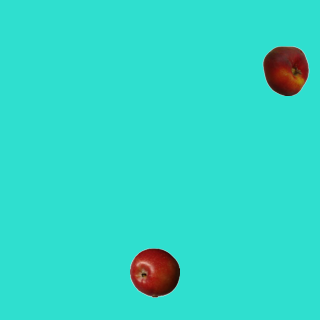Apple Braeburn: (129, 247, 179, 297)
Nectarine Flat: (260, 45, 310, 95)
